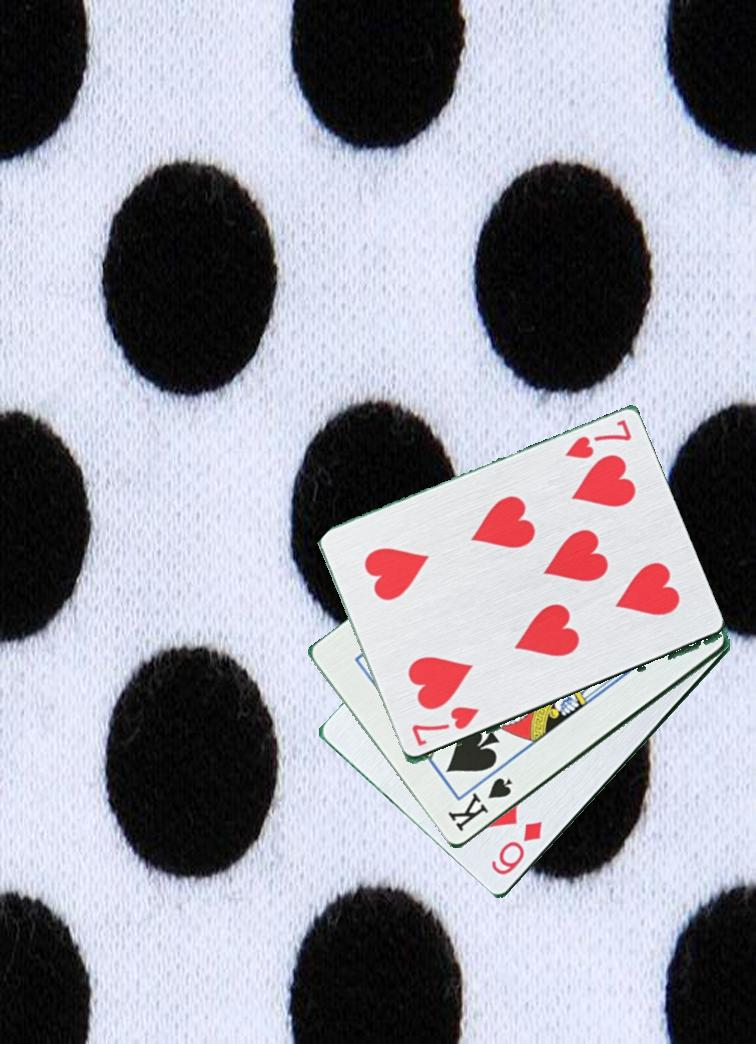6d: (487, 818, 546, 879)
7h: (560, 416, 642, 473), (407, 703, 482, 751)
ks: (444, 774, 515, 836)
